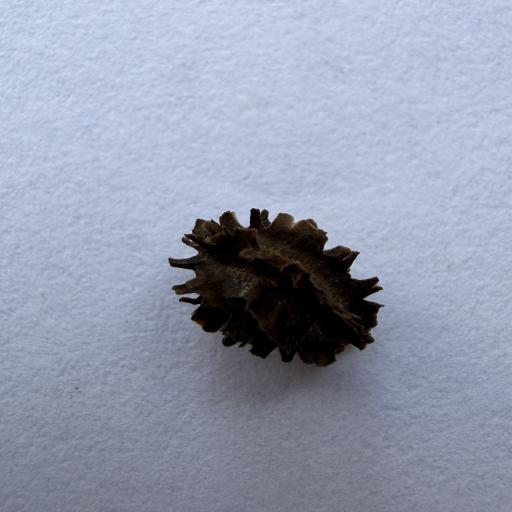papaya_seed: (164, 186, 401, 376)
